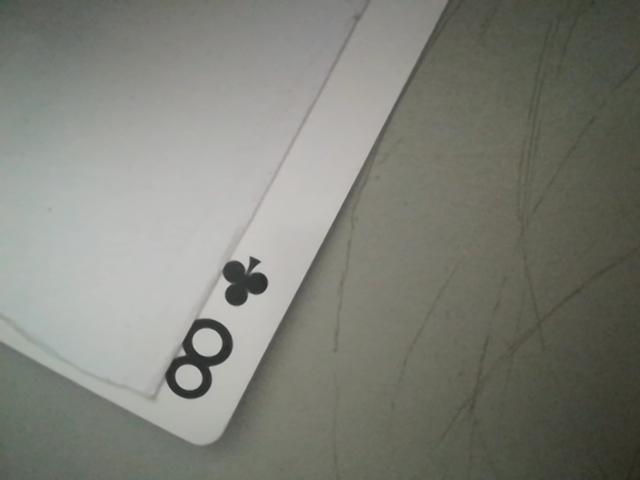mh 8: (149, 247, 278, 422)
